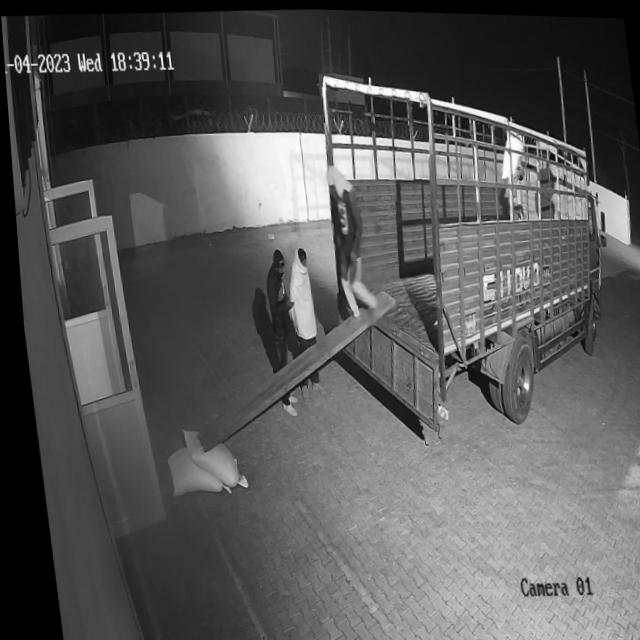sack: (174, 423, 240, 489), (159, 443, 221, 495)
